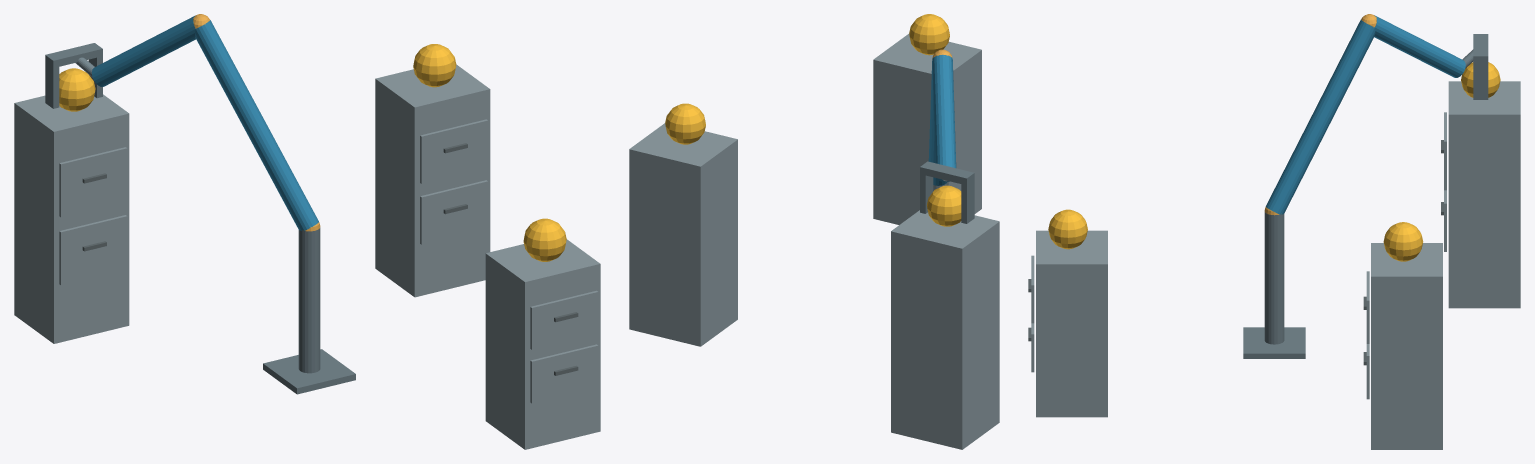
3 renders of one model, left to right at view 1: azimuth 30°, elevation 25°; view 2: azimuth 150°, elevation 25°; view 3: azimuth 270°, elevation 25°, orthographic. The views are drawn at different scales.
Visible parts, largest first — view 1: cabinet_3 body, cabinet_2 body, cabinet_1 body, moving link 1, cabinet_3 drawer front.001, cabinet_3 drawer front, cabinet_2 drawer front, fixed post, cabinet_2 drawer front.001, cabinet_1 drawer front.001, cabinet_1 drawer front, moving link 2 (+6 smaller); view 2: cabinet_3 body, cabinet_2 body, cabinet_1 body, moving link 2, released ball_2, released ball_1, ball ball_3, gripper bridge, gripper finger -1, moving link 1, gripper finger 1; view 3: cabinet_3 body, cabinet_2 body, cabinet_1 body, moving link 1, fixed post, moving link 2, pedestal, released ball_1, released ball_2, ball ball_3, gripper finger 1.
Boxes of the visible parts, x1,y1,x2,y2 form: cabinet_3 body: (14, 94, 129, 343); cabinet_2 body: (375, 64, 490, 297); cabinet_1 body: (485, 239, 600, 449); moving link 1: (195, 20, 318, 230); cabinet_3 drawer front.001: (59, 147, 127, 217); cabinet_3 drawer front: (59, 215, 127, 285); cabinet_2 drawer front: (420, 180, 487, 244); fixed post: (298, 227, 320, 373); cabinet_2 drawer front.001: (420, 119, 487, 183); cabinet_1 drawer front.001: (530, 290, 598, 349); cabinet_1 drawer front: (530, 344, 598, 403); moving link 2: (92, 15, 195, 86); cabinet_3 body: (891, 210, 999, 449); cabinet_2 body: (629, 123, 737, 346); cabinet_1 body: (873, 34, 981, 224); moving link 2: (932, 54, 956, 181); released ball_2: (665, 103, 705, 144); released ball_1: (909, 14, 949, 55); ball ball_3: (927, 185, 961, 226); gripper bridge: (920, 161, 974, 185); gripper finger -1: (961, 180, 974, 223); moving link 1: (928, 61, 947, 185); gripper finger 1: (920, 174, 933, 213); cabinet_3 body: (1448, 81, 1520, 308); cabinet_2 body: (1371, 243, 1442, 449); cabinet_1 body: (1036, 230, 1107, 417); moving link 1: (1266, 20, 1375, 214); fixed post: (1264, 212, 1284, 344); moving link 2: (1374, 15, 1465, 77); pedestal: (1243, 327, 1305, 358); released ball_1: (1048, 209, 1087, 249); released ball_2: (1383, 222, 1423, 261); ball ball_3: (1461, 62, 1500, 97); gripper finger 1: (1473, 63, 1488, 99).
Bounding box in the file's own units: 1.67 × 1.36 × 1.98.
